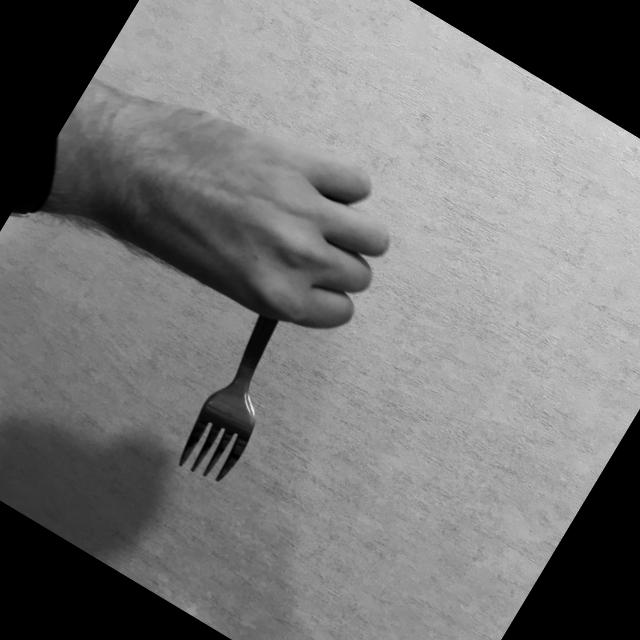fork: (163, 246, 350, 494)
